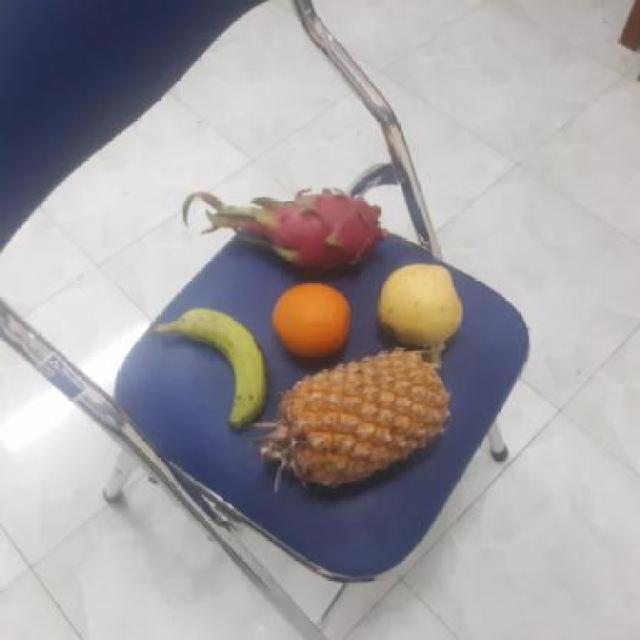banana: (170, 306, 270, 426)
dragon fruit: (246, 189, 383, 277)
oren: (270, 283, 356, 365)
pear: (368, 263, 464, 349)
pineapple: (263, 354, 448, 485)
